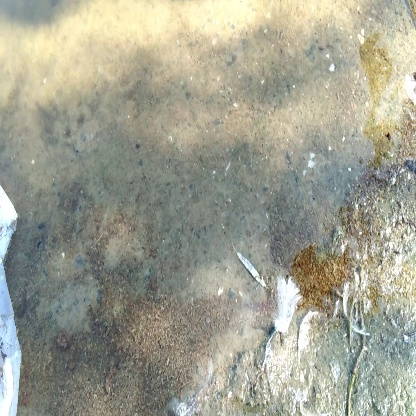branch: (340, 300, 377, 415)
